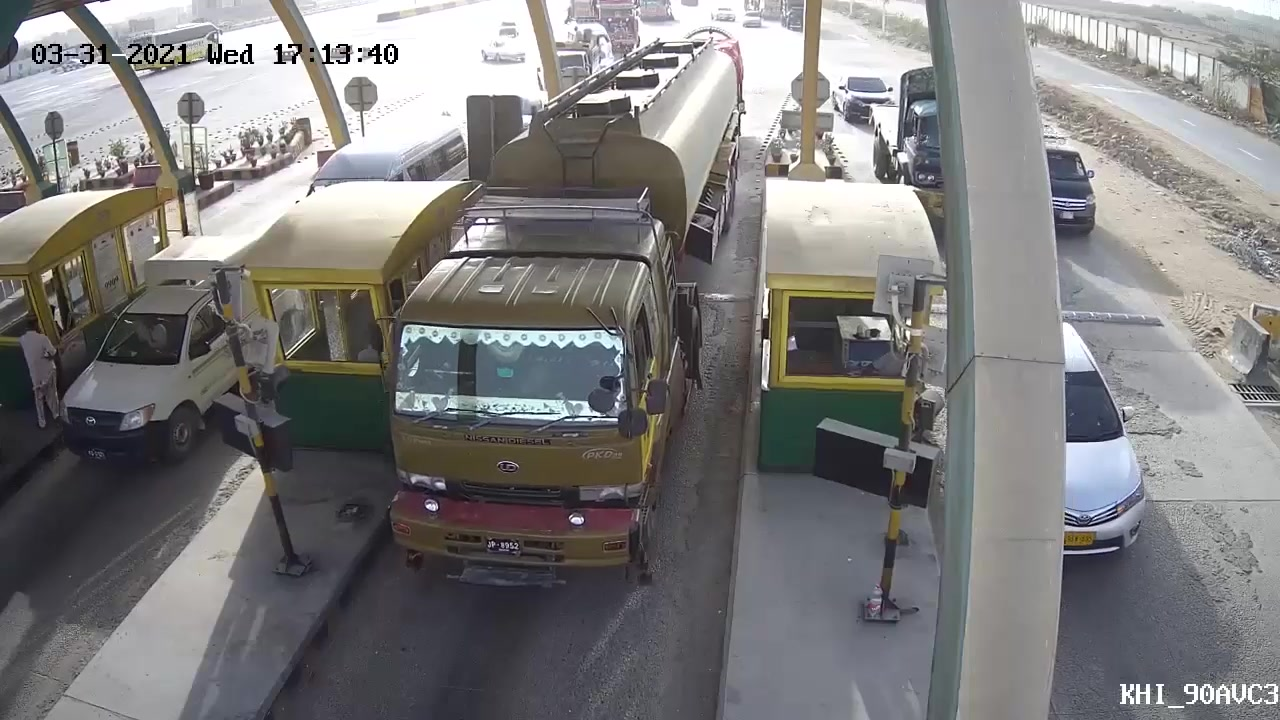F6: (381, 29, 758, 599)
